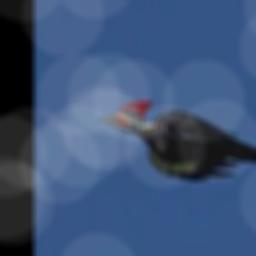Woodpecker: (97, 99, 256, 179)
